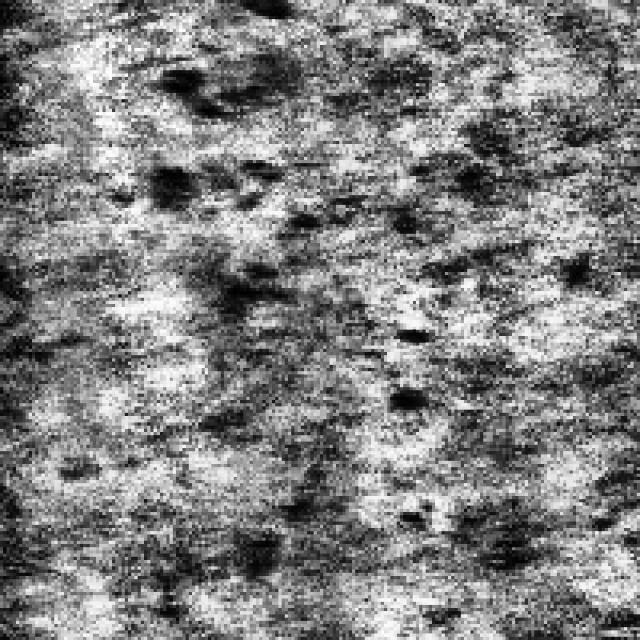Crazing: (147, 67, 381, 432), (224, 470, 550, 586)
